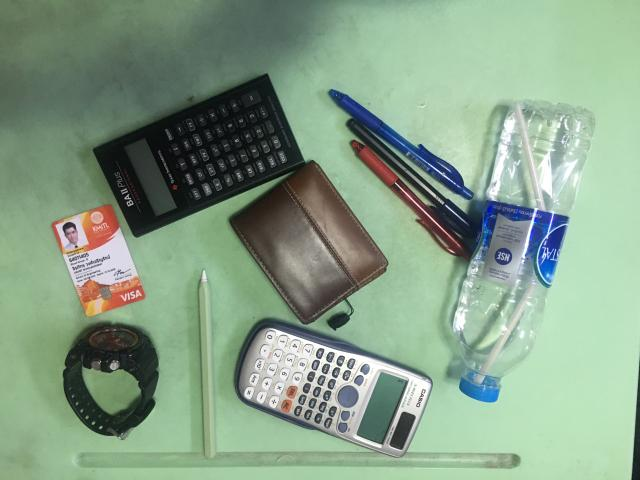Pen: (329, 90, 476, 257)
Wallet: (228, 163, 389, 327)
Watch: (62, 323, 159, 439)
bottle: (450, 100, 596, 404)
